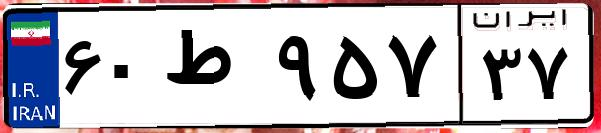0: (110, 28, 158, 98)
3: (475, 38, 525, 113)
5: (330, 28, 385, 110)
6: (57, 26, 110, 100)
7: (385, 28, 445, 110), (525, 38, 570, 115)
9: (270, 28, 330, 110)
ط: (158, 20, 270, 120)
